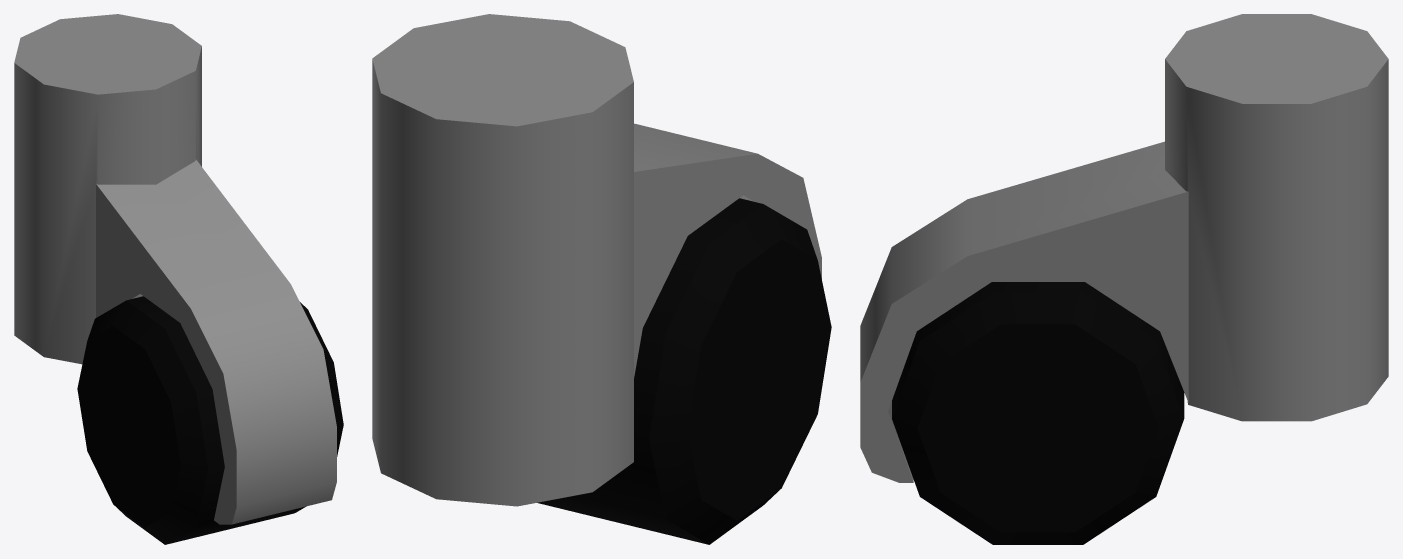
File: UpdatedWheel.fbx
3 renders of one model, left to right at view 1: azimuth 30°, elevation 25°; view 2: azimuth 150°, elevation 25°; view 3: azimuth 270°, elevation 25°, orthographic. The views are drawn at different scales.
Visible parts, largest first — view 1: Cube.008; view 2: Cube.008; view 3: Cube.008.
Boxes of the visible parts, box(x1,y1,x2,y2) form: Cube.008: box(14, 14, 343, 544); Cube.008: box(372, 14, 831, 544); Cube.008: box(860, 14, 1388, 544).
Size of the model in its own units: 37.19 by 84.16 by 89.71.
